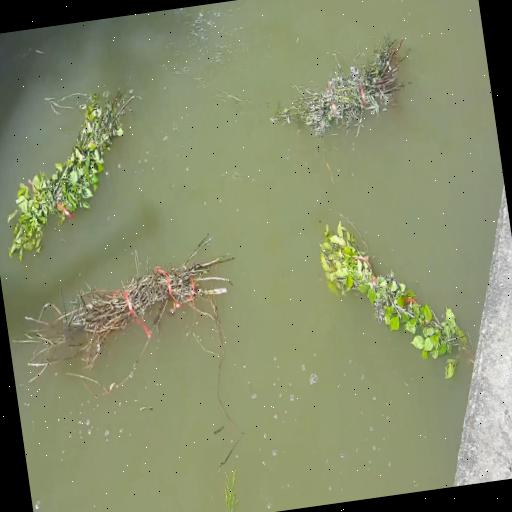twig: (0, 78, 151, 266), (316, 208, 466, 383), (50, 238, 242, 358), (278, 22, 417, 142)
